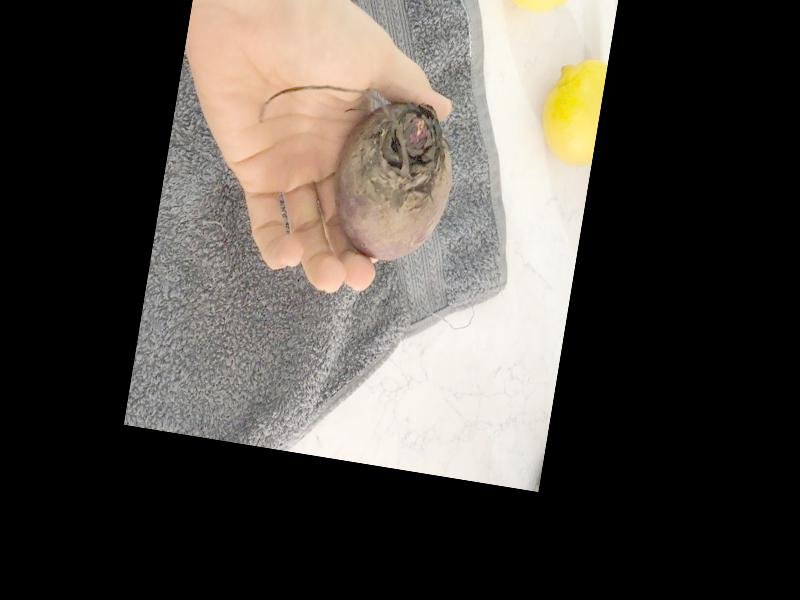Beet: (240, 79, 463, 271)
